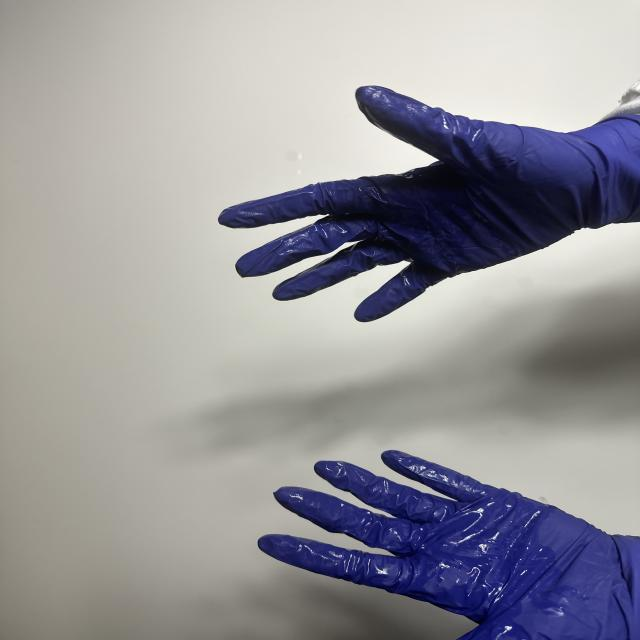gloves_contaminated: (219, 86, 640, 322), (258, 450, 640, 640)
